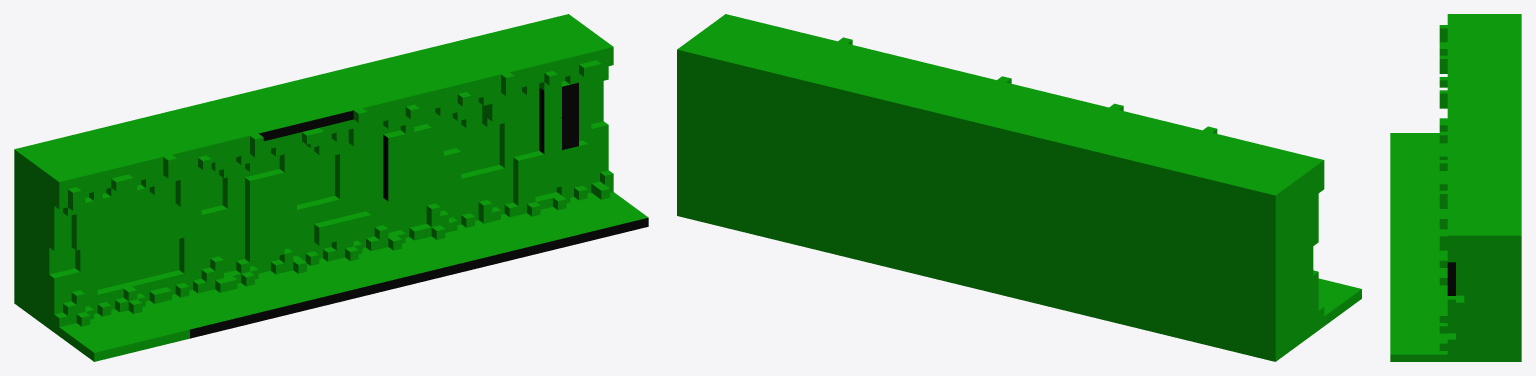
Rendered from Straight6.fbx.
3 views of the same model, side by side, from view 1: azimuth 30°, elevation 25°; view 2: azimuth 150°, elevation 25°; view 3: azimuth 270°, elevation 25° (orthographic). The views are drawn at different scales.
Visible parts, largest first — view 1: Ground, Cliff; view 2: Cliff, Ground; view 3: Ground, Cliff.
Part boxes in pixels (x1=…): Ground: x1=14, y1=14, x2=648, y2=361; Cliff: x1=14, y1=66, x2=608, y2=332; Cliff: x1=677, y1=59, x2=1318, y2=361; Ground: x1=677, y1=14, x2=1361, y2=329; Ground: x1=1390, y1=14, x2=1521, y2=361; Cliff: x1=1447, y1=243, x2=1521, y2=361.
Bounding box in the file's own units: 64 × 17 × 16.
